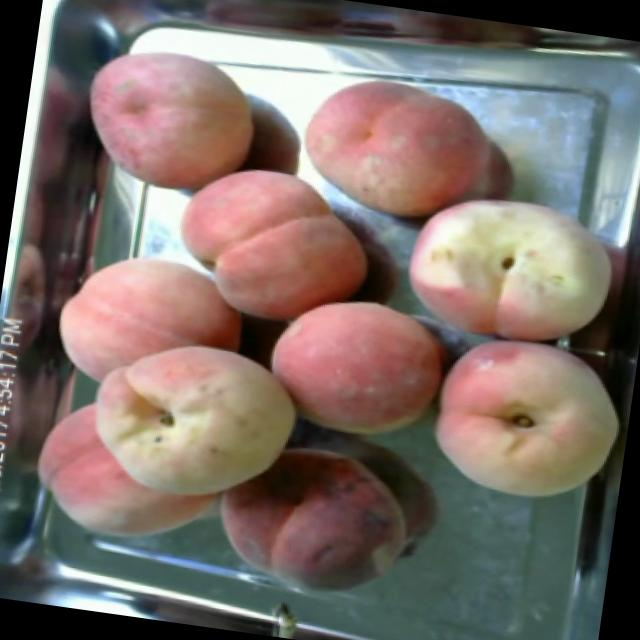Fruit: (67, 318, 316, 522), (195, 420, 438, 627), (154, 144, 392, 346), (281, 55, 531, 247), (386, 169, 630, 355), (408, 326, 636, 523), (36, 228, 260, 413), (250, 272, 470, 460), (62, 24, 276, 211)
